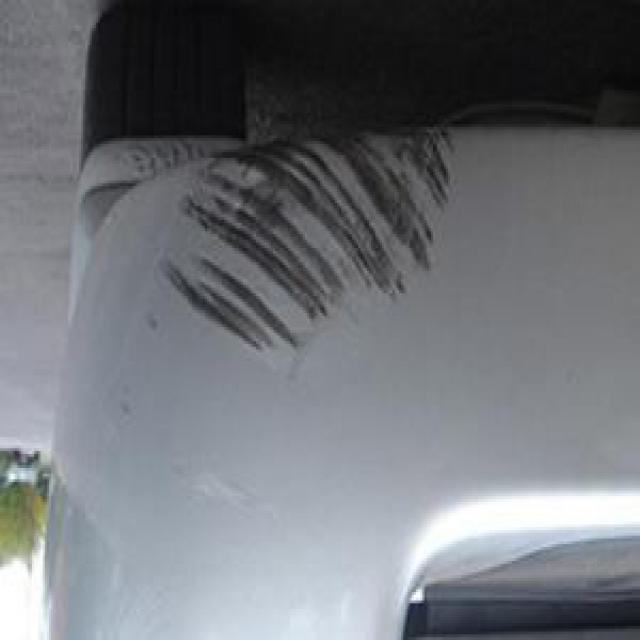scratch: (124, 102, 482, 350)
